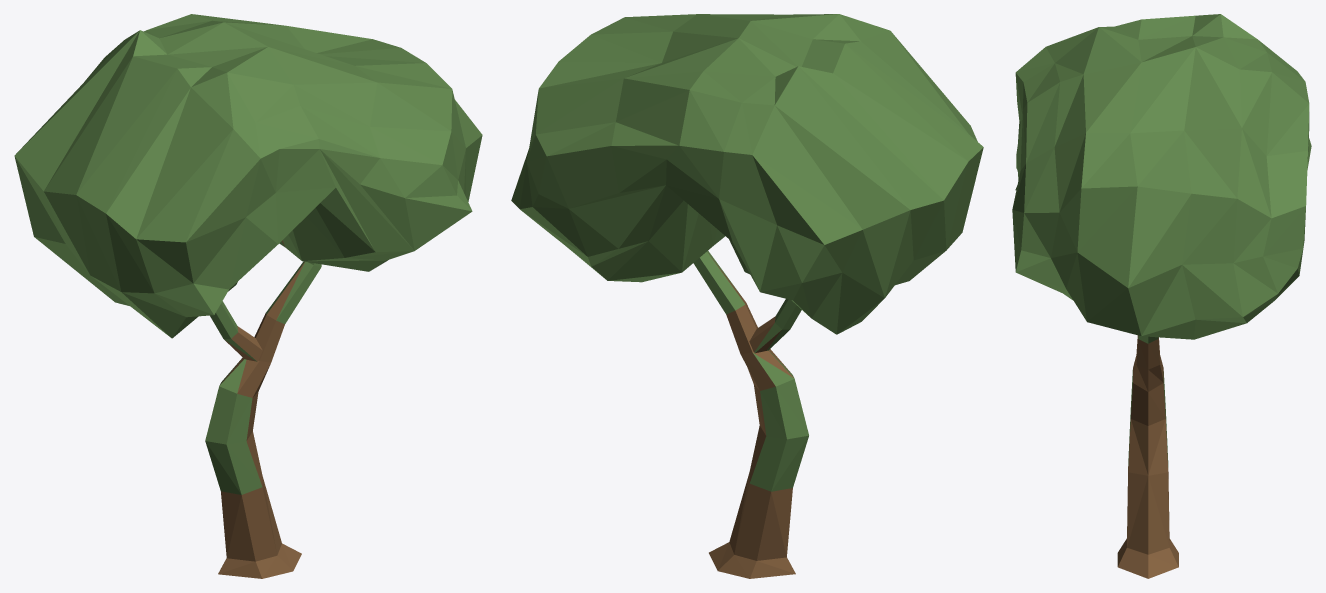
File: tree3d-049.glb
3 renders of one model, left to right at view 1: azimuth 30°, elevation 25°; view 2: azimuth 150°, elevation 25°; view 3: azimuth 270°, elevation 25°, orthographic. The views are drawn at different scales.
Parts seen in each view (by area): view 1: tree3d-049; view 2: tree3d-049; view 3: tree3d-049.
Boxes of the visible parts, box(x1,y1,x2,y2) form: tree3d-049: box(14, 14, 482, 578); tree3d-049: box(511, 14, 983, 578); tree3d-049: box(1012, 14, 1311, 578).
Size of the model in its own units: 0.8202 by 1 by 0.5353.
